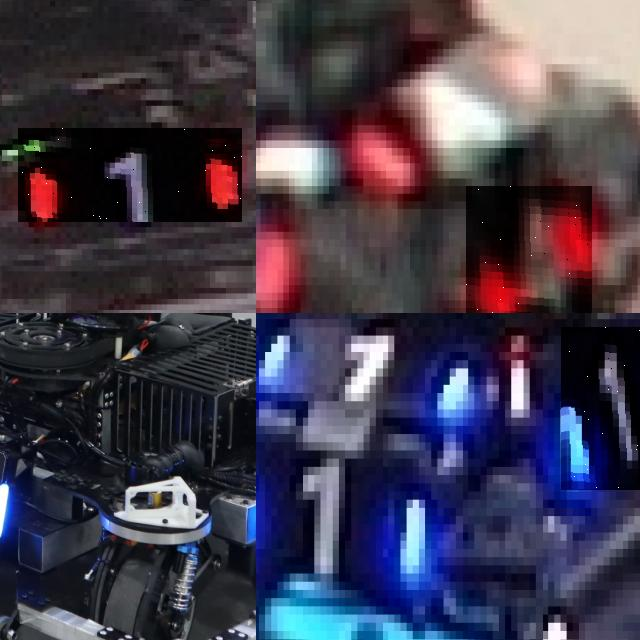B1: (256, 442, 437, 581), (256, 313, 486, 417), (560, 327, 640, 491)
R1: (18, 128, 242, 222)
R4: (466, 186, 591, 313), (256, 186, 295, 313)
